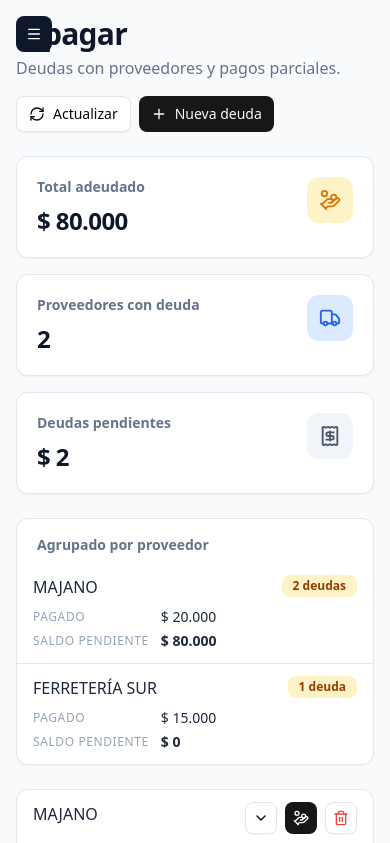
SupplierDebtsPage — cards de mobile › abre el diálogo de pago desde el botón de la card
Click the button named "Registrar pago" at (301, 818), box [285, 802, 317, 834]
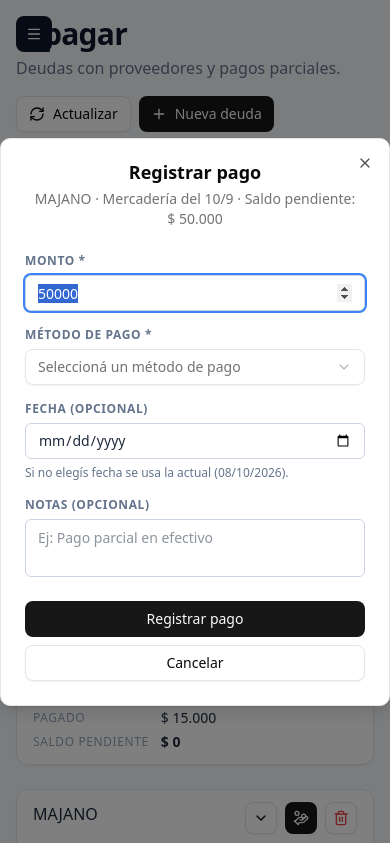
Now the heading "Registrar pago" is shown, box [129, 160, 261, 184]
Now the dialog shows "MAJANO · Mercadería del 10/9"
